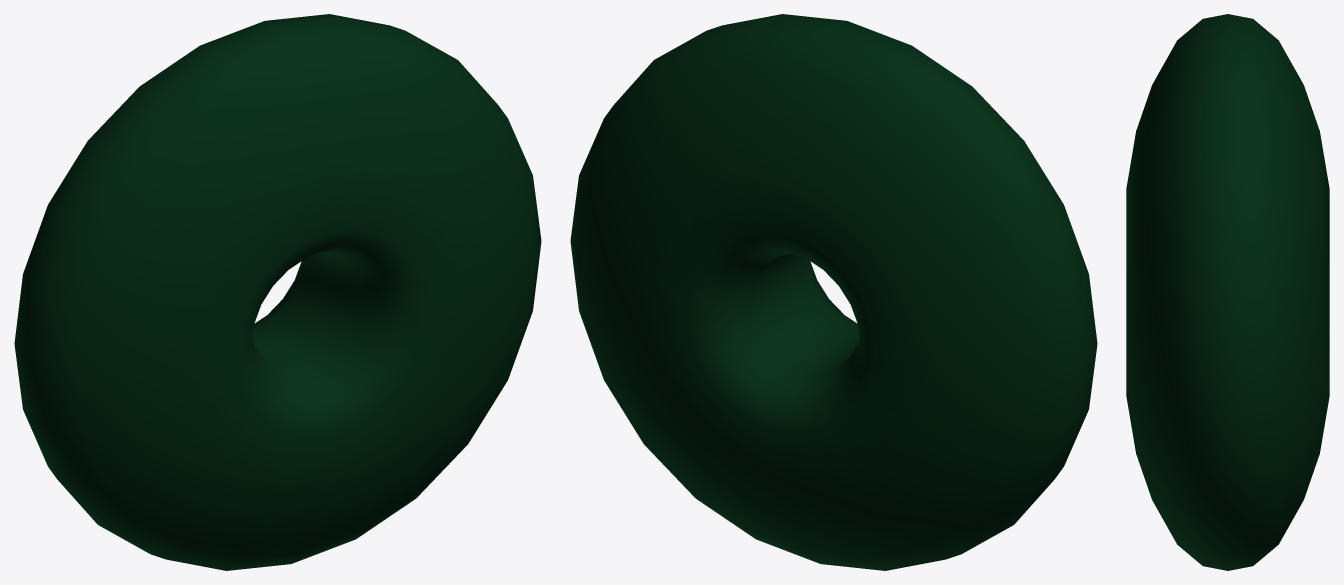
Rendered from jewel1_Green.fbx.
3 renders of one model, left to right at view 1: azimuth 30°, elevation 25°; view 2: azimuth 150°, elevation 25°; view 3: azimuth 270°, elevation 25°, orthographic. The views are drawn at different scales.
Visible parts, largest first — view 1: jewel1_Green; view 2: jewel1_Green; view 3: jewel1_Green.
Boxes of the visible parts, box(x1,y1,x2,y2) form: jewel1_Green: box(14, 14, 541, 570); jewel1_Green: box(570, 14, 1097, 570); jewel1_Green: box(1126, 14, 1329, 570).
Size of the model in its own units: 0.6238 by 0.6238 by 0.2265.
